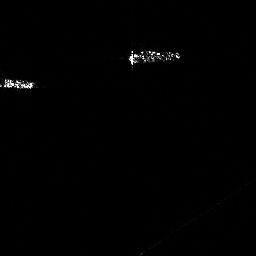ship: (126, 47, 183, 69), (1, 77, 37, 90)
